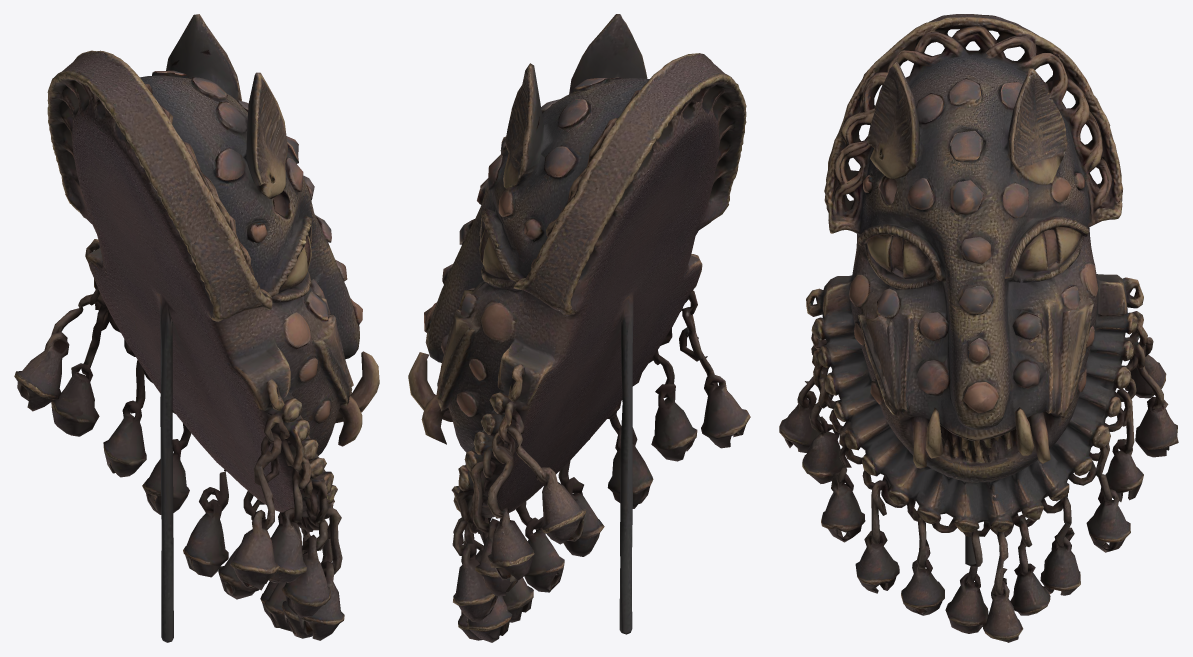
Rendered from benin-bronze-4-3d.glb.
The picture shows the model from 3 angles, left to right: view 1: azimuth 30°, elevation 25°; view 2: azimuth 150°, elevation 25°; view 3: azimuth 270°, elevation 25°; orthographic projection. The views are drawn at different scales.
Visible parts, largest first — view 1: tripo_node_cb07525b-5c6d-464f-b458-a314afdeb64d; view 2: tripo_node_cb07525b-5c6d-464f-b458-a314afdeb64d; view 3: tripo_node_cb07525b-5c6d-464f-b458-a314afdeb64d.
Part boxes in pixels (x1,y1,x2,y2): tripo_node_cb07525b-5c6d-464f-b458-a314afdeb64d: [14, 14, 379, 642]; tripo_node_cb07525b-5c6d-464f-b458-a314afdeb64d: [408, 14, 750, 642]; tripo_node_cb07525b-5c6d-464f-b458-a314afdeb64d: [779, 14, 1178, 642].
Size of the model in its own units: 0.48 by 1 by 0.6603.
1 material, 1 textured.
